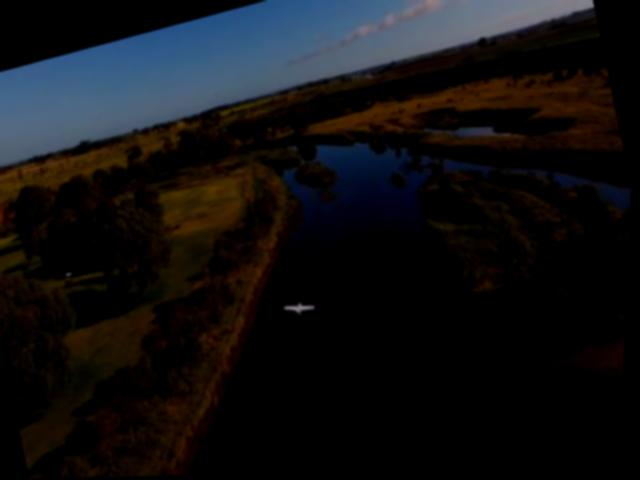uav: (284, 296, 320, 325)
